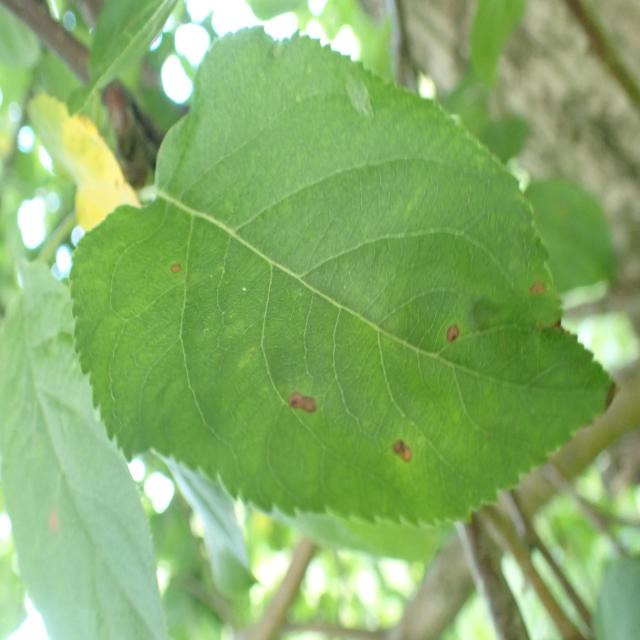frog-eye-leaf-spot: (68, 27, 619, 530)
